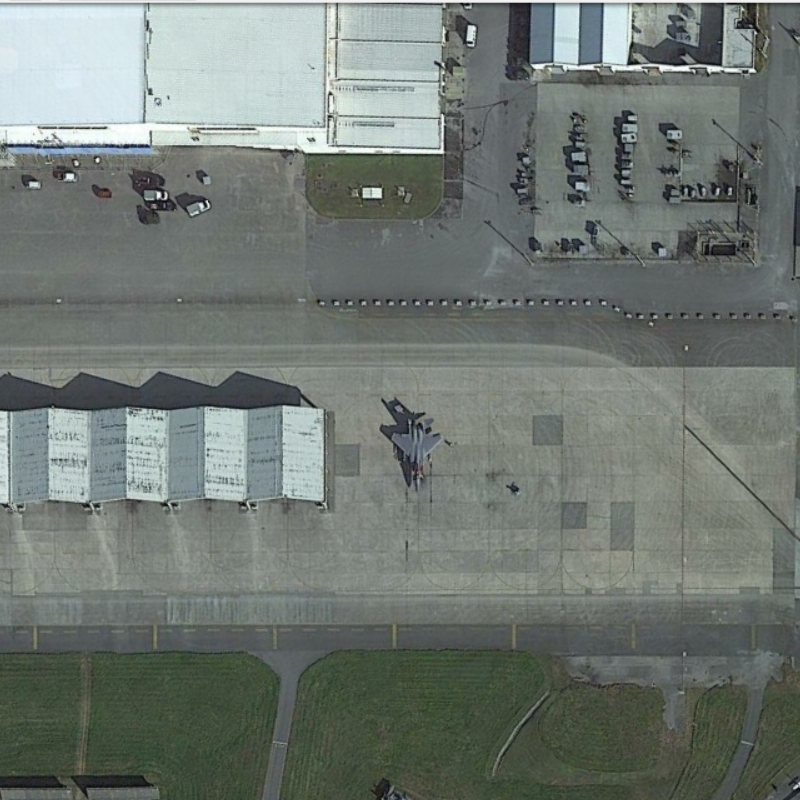A13: (389, 413, 446, 493)
